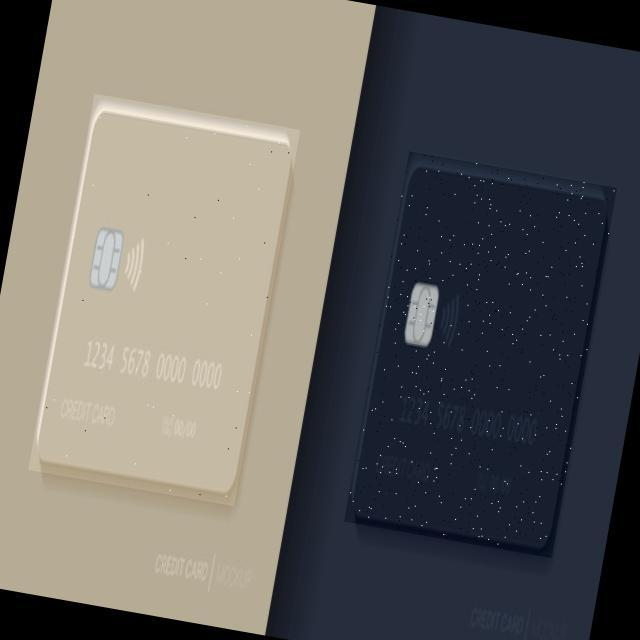payment_card: (28, 92, 300, 507), (345, 150, 617, 557)
